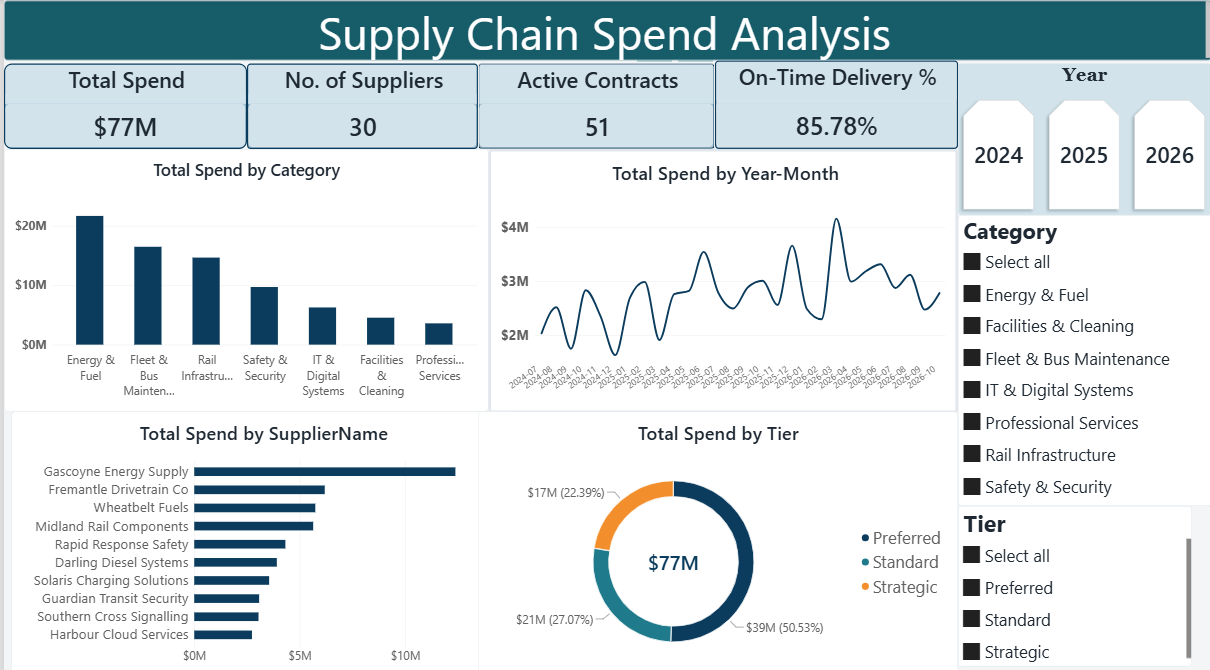

What the dashboard file says about the page in this screenshot:
{"tool":"powerbi","page":{"name":"Page 1","canvas":[1920,1080],"ordinal":0},"visuals":[{"type":"cardVisual","title":"Total Spend","fields":{"Data":["_Measures.Total Spend"]},"box":[0,102.6,386.5,136],"z":0},{"type":"cardVisual","title":"No. of Suppliers","fields":{"Data":["_Measures.Supplier Count"]},"box":[386.5,102.6,367.4,136],"z":1000},{"type":"cardVisual","title":"On-Time Delivery %","fields":{"Data":["_Measures.On-Time Delivery %"]},"box":[1130.9,97.8,386.5,147.9],"z":2000},{"type":"cardVisual","title":"Active Contracts","fields":{"Data":["_Measures.Active Contracts"]},"box":[753.9,97.8,377,147.9],"z":3000},{"type":"columnChart","fields":{"Category":["Suppliers.Category"],"Y":["_Measures.Total Spend"]},"box":[0,238.6,770.7,417.5],"z":4000},{"type":"lineChart","fields":{"Category":["Date.Year-Month"],"Y":["_Measures.Total Spend"]},"box":[770.7,238.6,746.8,419.9],"z":5000},{"type":"slicer","fields":{"Values":["Suppliers.Category"]},"box":[1517.4,343.6,403.2,462.9],"z":7000},{"type":"slicer","fields":{"Values":["Suppliers.Tier"]},"box":[1517.4,806.4,372.2,255.3],"z":8000},{"type":"clusteredBarChart","fields":{"Category":["Suppliers.SupplierName"],"Y":["_Measures.Total Spend"]},"box":[11.9,656.1,801.7,424.7],"z":9000},{"type":"donutChart","fields":{"Category":["Suppliers.Tier"],"Y":["_Measures.Total Spend"]},"box":[753.9,656.1,763.5,424.7],"z":10000},{"type":"textbox","title":"Spend Analysis","box":[35.8,2.4,1884.9,95.4],"z":11001},{"type":"advancedSlicerVisual","fields":{"Values":["Date.Year"]},"box":[1518.5,101.9,402.4,241.5],"z":11002}]}

Visuals, with their boxes in screenshot pixels (x1, y1, x2, y2), scaled from the page's 1920x1080 canvas onto the 1210x670 screenshot:
"Total Spend" cardVisual: Rect(0, 64, 244, 148)
"No. of Suppliers" cardVisual: Rect(244, 64, 475, 148)
"On-Time Delivery %" cardVisual: Rect(713, 61, 956, 152)
"Active Contracts" cardVisual: Rect(475, 61, 713, 152)
columnChart - Suppliers.Category x _Measures.Total Spend: Rect(0, 148, 486, 407)
lineChart - Date.Year-Month x _Measures.Total Spend: Rect(486, 148, 956, 409)
slicer - Suppliers.Category: Rect(956, 213, 1209, 500)
slicer - Suppliers.Tier: Rect(956, 500, 1191, 659)
clusteredBarChart - Suppliers.SupplierName x _Measures.Total Spend: Rect(7, 407, 513, 669)
donutChart - Suppliers.Tier x _Measures.Total Spend: Rect(475, 407, 956, 669)
"Spend Analysis" textbox: Rect(23, 1, 1209, 61)
advancedSlicerVisual - Date.Year: Rect(957, 63, 1209, 213)
